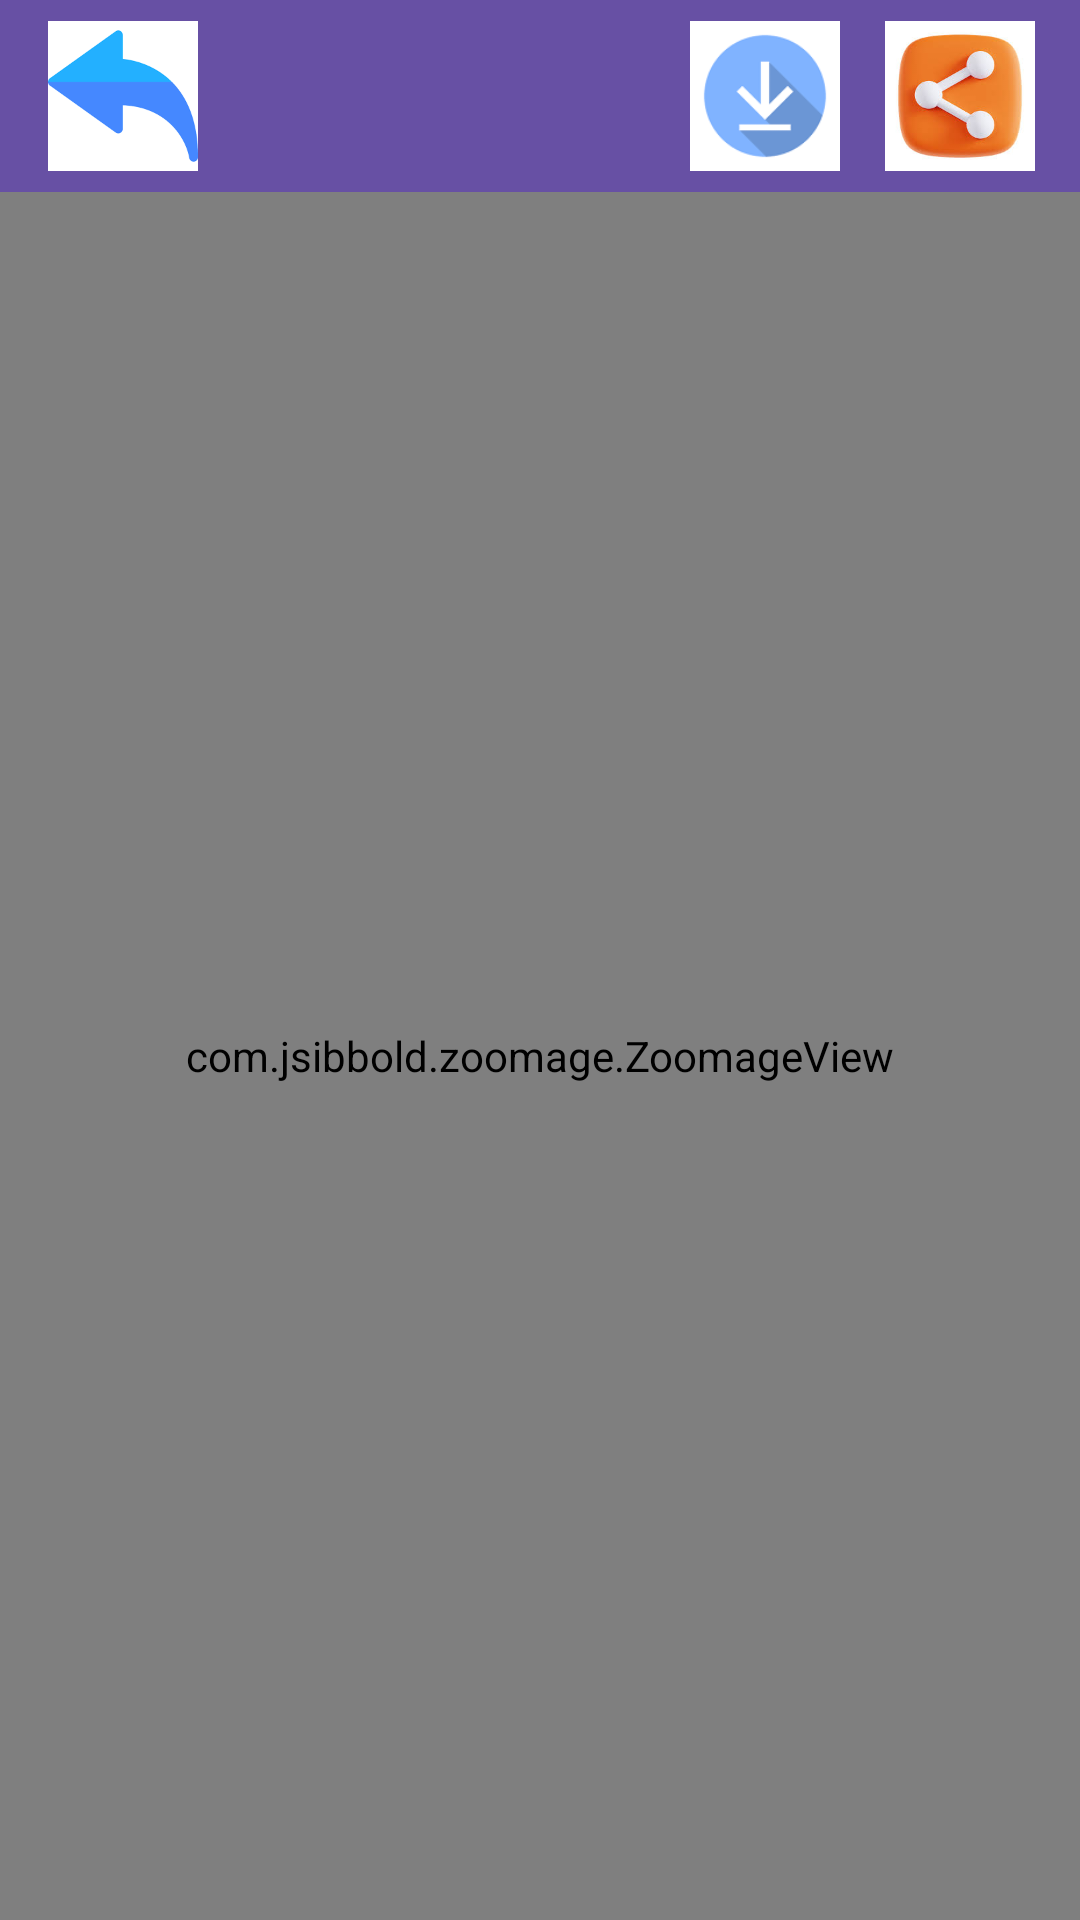

Named icons in this screenshot (1080×1920) and their centers, (x,y):
back: (123,96)
saveimg: (765,96)
sharenew: (960,96)
